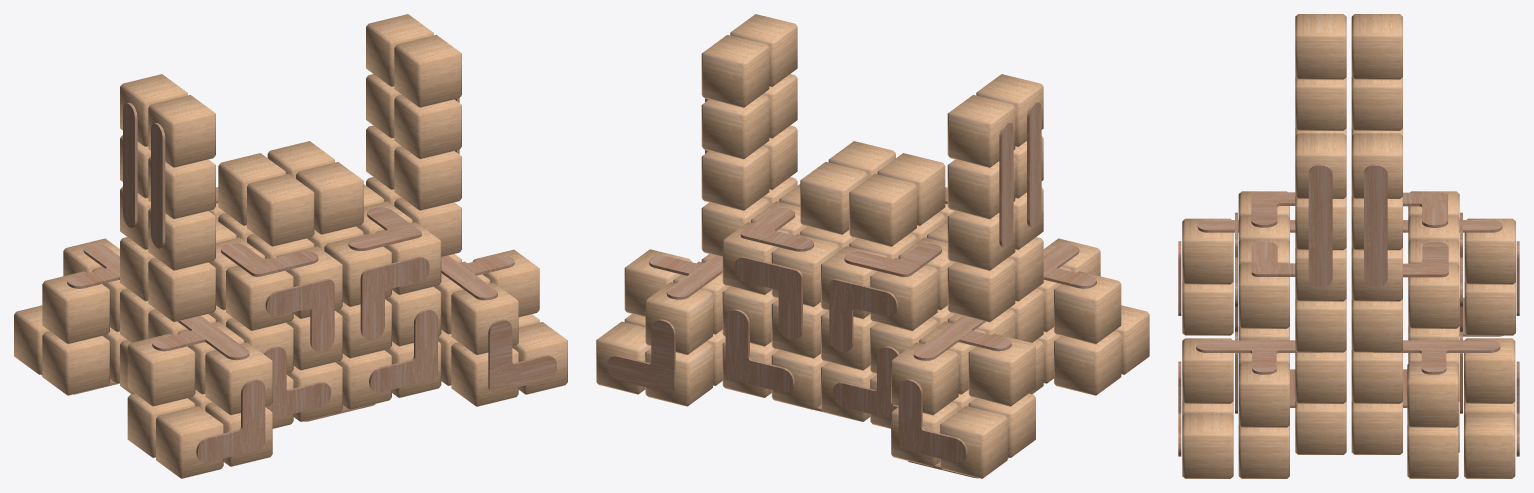
File: level_102.fbx
3 renders of one model, left to right at view 1: azimuth 30°, elevation 25°; view 2: azimuth 150°, elevation 25°; view 3: azimuth 270°, elevation 25°, orthographic.
Parts seen in each view (by area): view 1: Cube.065, Cube.102, Cube.085, Cube.077, Cube.104, Cube.018, Cube.080, Cube.096, Cube.074, Cube.094, Cube.071, Cube.067 (+55 smaller); view 2: Cube.103, Cube.078, Cube.077, Cube.085, Cube.105, Cube.047, Cube.097, Cube.095, Cube.075, Cube.083, Cube.081, Cube.069 (+55 smaller); view 3: Cube.104, Cube.064, Cube.070, Cube.105, Cube.073, Cube.063, Cube.084, Cube.079, Cube.069, obj_obs_Y.001, Cube.067, Cube.017 (+42 smaller).
Part boxes in pixels (x1,y1,x2,y2): Cube.065: (247, 174, 314, 246); Cube.102: (394, 35, 461, 107); Cube.085: (127, 333, 195, 406); Cube.077: (42, 271, 109, 344); Cube.104: (148, 95, 215, 167); Cube.018: (148, 258, 215, 322); Cube.080: (156, 406, 223, 478); Cube.096: (394, 95, 461, 159); Cube.074: (42, 331, 109, 395); Cube.094: (394, 146, 461, 210); Cube.071: (296, 162, 363, 234); Cube.067: (451, 282, 518, 355); Cube.103: (701, 35, 769, 107); Cube.078: (849, 174, 916, 246); Cube.077: (968, 333, 1035, 406); Cube.085: (1054, 271, 1121, 344); Cube.105: (947, 95, 1015, 167); Cube.047: (947, 258, 1015, 322); Cube.097: (701, 95, 769, 159); Cube.095: (701, 146, 769, 210); Cube.075: (940, 406, 1007, 478); Cube.083: (1054, 331, 1121, 395); Cube.081: (800, 162, 867, 234); Cube.069: (645, 282, 712, 354); Cube.104: (1295, 14, 1346, 79); Cube.064: (1182, 413, 1233, 478); Cube.070: (1464, 413, 1515, 478); Cube.105: (1351, 14, 1402, 79); Cube.073: (1407, 362, 1458, 427); Cube.063: (1238, 362, 1289, 427); Cube.084: (1182, 218, 1233, 284); Cube.079: (1464, 218, 1515, 284); Cube.069: (1464, 338, 1515, 403); obj_obs_Y.001: (1308, 164, 1332, 287); Cube.067: (1182, 338, 1233, 403); Cube.017: (1238, 263, 1289, 328).
Size of the model in its own units: 17.4 by 13.19 by 13.29.
